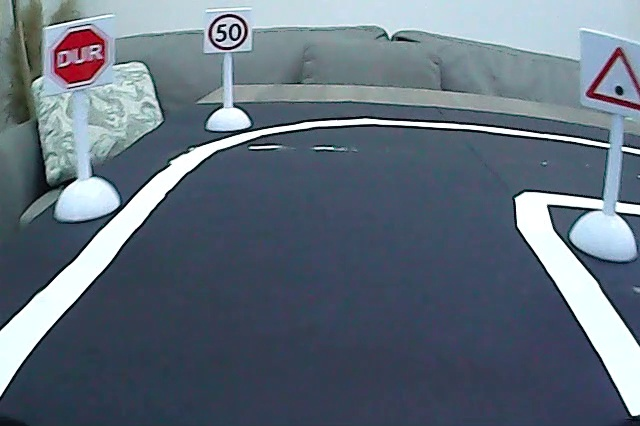green light: (582, 42, 640, 116)
speed limit 50: (207, 11, 250, 53)
stop sign: (50, 23, 114, 88)
